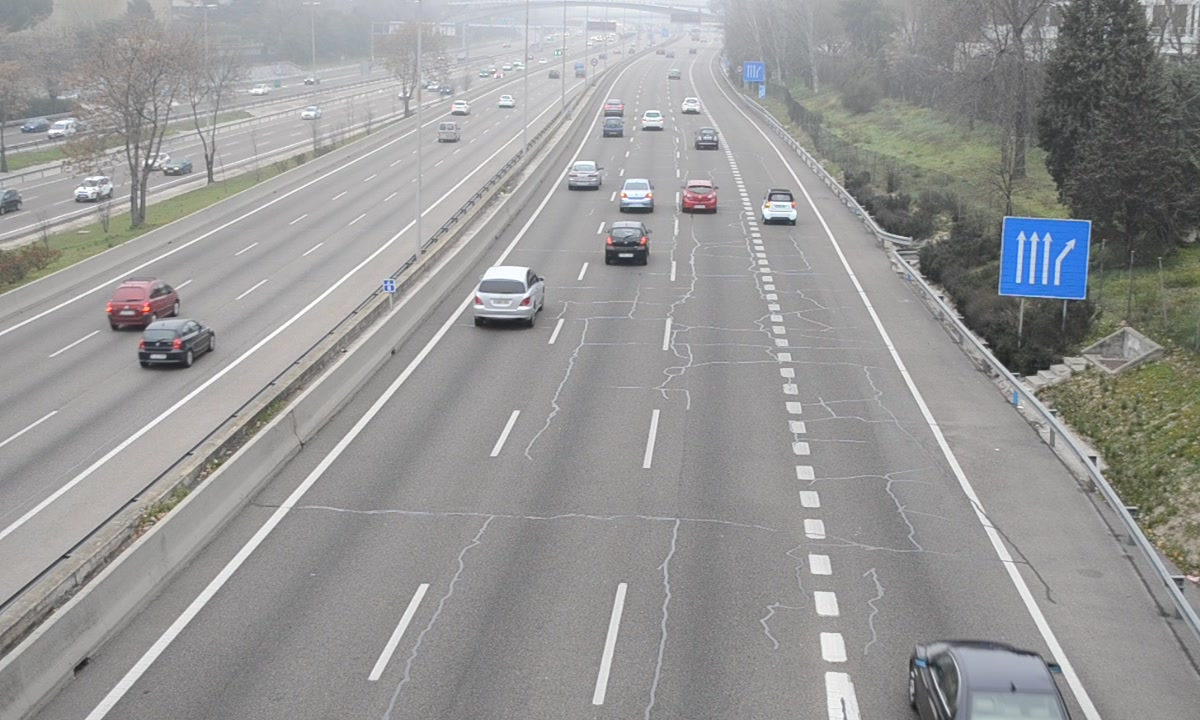car: (473, 265, 546, 323), (604, 221, 652, 267), (763, 188, 797, 227), (683, 180, 720, 215), (620, 178, 655, 214), (567, 161, 604, 193), (694, 127, 721, 152), (639, 109, 665, 131), (601, 117, 625, 139)
